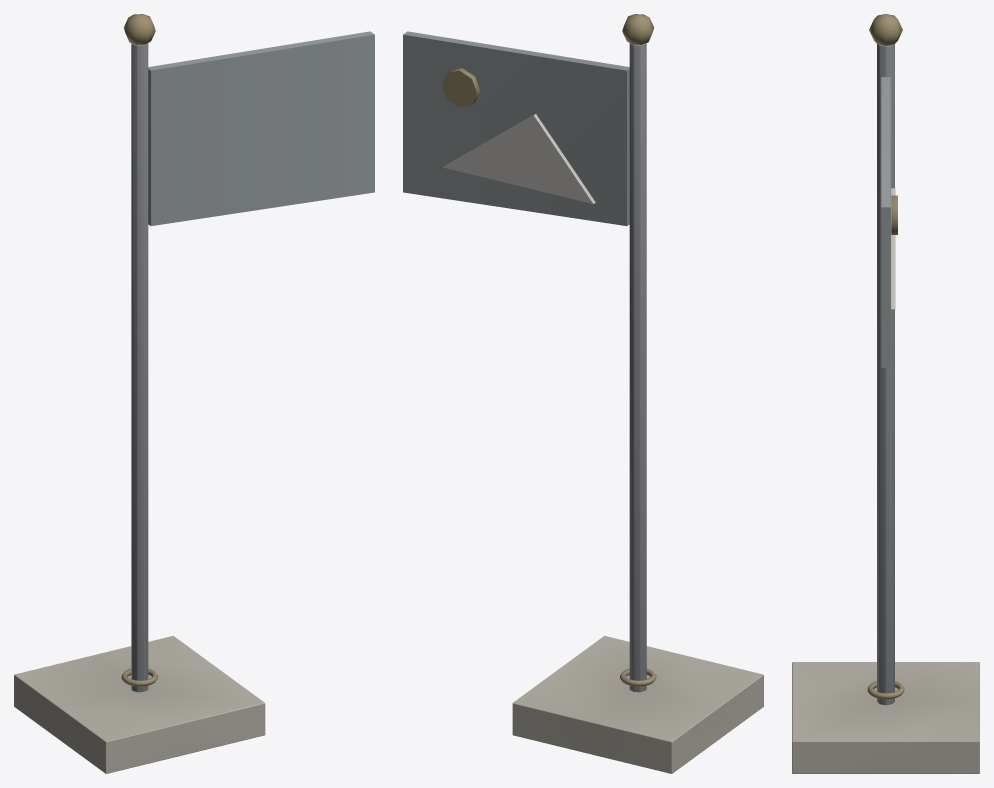
Rendered from flag_stand.glb.
The picture shows the model from 3 angles, left to right: view 1: azimuth 30°, elevation 25°; view 2: azimuth 150°, elevation 25°; view 3: azimuth 270°, elevation 25°; orthographic projection.
Bounding box in the file's own units: 1.41 × 3.05 × 0.72.
